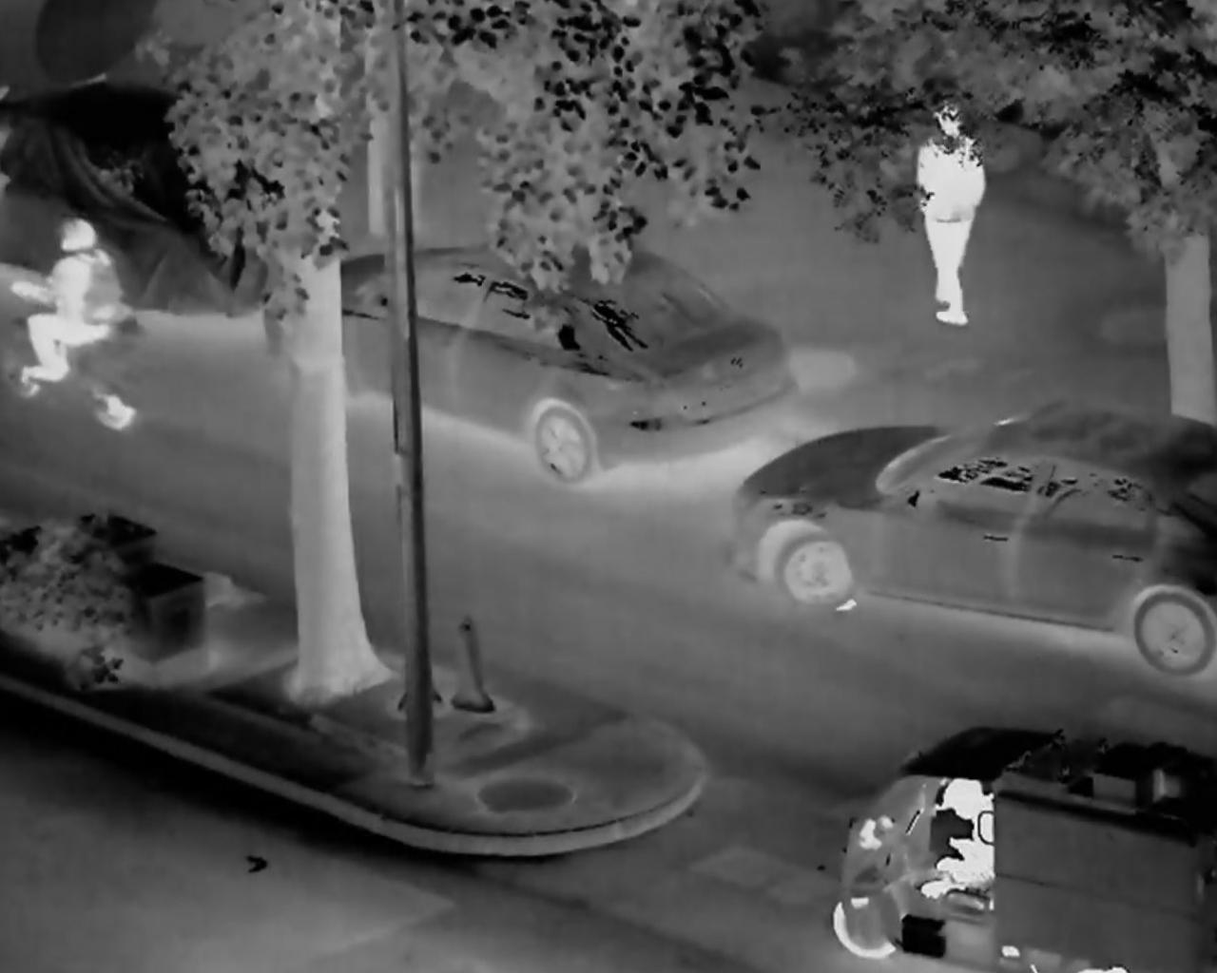person: (19, 208, 132, 412), (910, 91, 992, 344)
